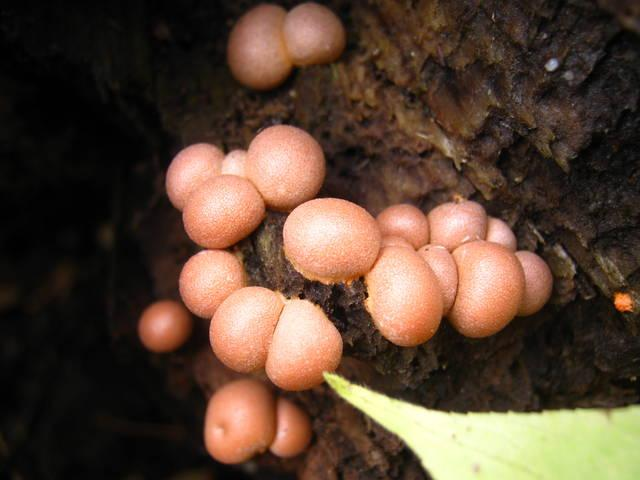Non-edible Mushroom: (161, 122, 554, 463), (225, 1, 346, 90), (281, 196, 381, 284), (362, 244, 443, 347), (264, 297, 343, 391), (244, 123, 326, 211), (202, 377, 276, 464), (181, 173, 265, 248), (283, 1, 345, 66), (136, 298, 191, 353)
